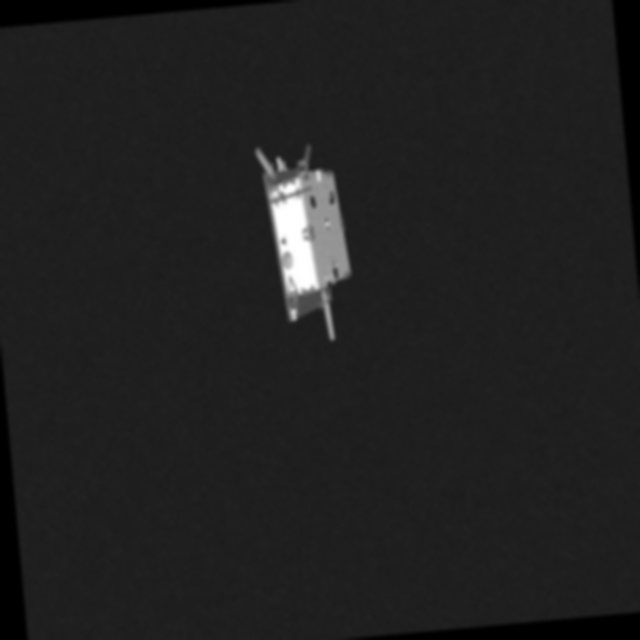satellite: (248, 133, 362, 347)
